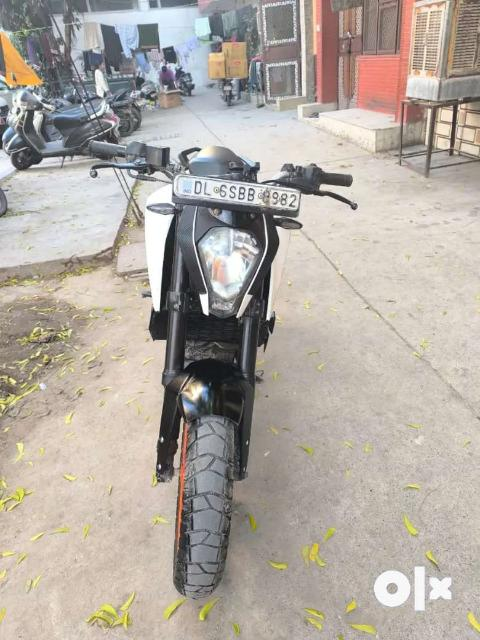Indian_Number_Plate: (173, 175, 301, 212)
